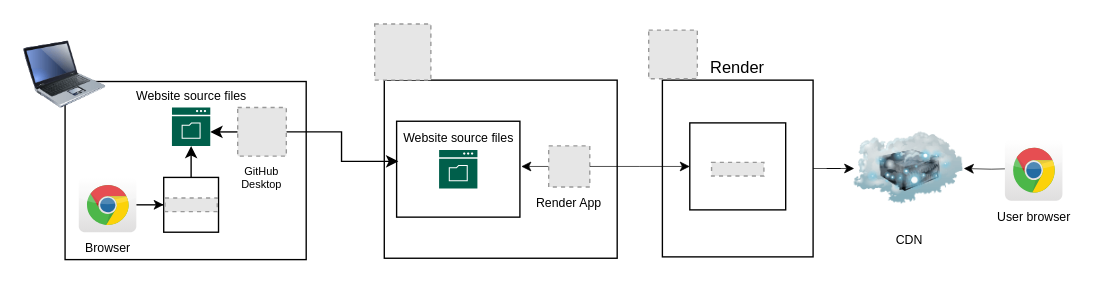
Image size: 1093x284. Some labels were removed from this diagram. Grey dashed boxes stand in for pictures. Here are the shapes that lost their labels. From the top down, the box of each, then its label:
(64, 80, 306, 260): Local
(395, 120, 520, 217): User Repository
(383, 79, 617, 258): GitHub
(688, 122, 786, 210): Deployer
